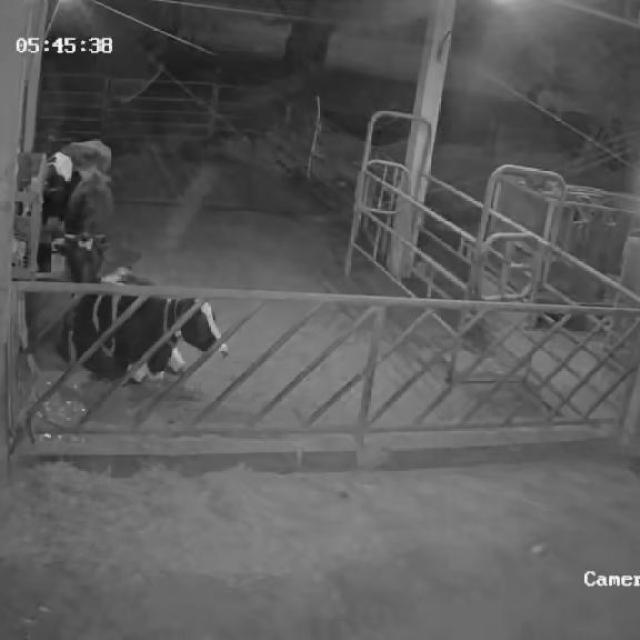lying down: (49, 261, 230, 397)
standing: (25, 133, 111, 224), (51, 170, 115, 279)
